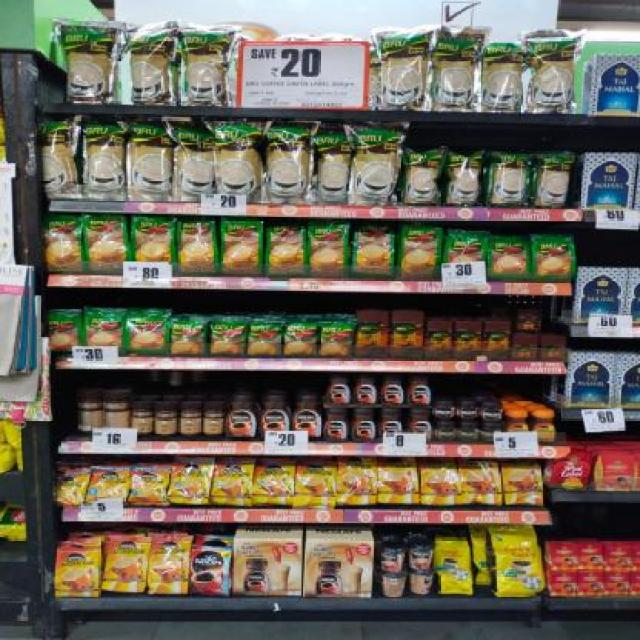Coffee: (106, 538, 149, 593), (56, 548, 99, 598), (149, 540, 188, 595), (191, 545, 232, 597), (418, 458, 462, 505), (377, 457, 420, 505), (460, 458, 503, 504), (502, 459, 544, 506), (296, 459, 336, 508), (254, 459, 294, 506), (214, 458, 252, 507), (338, 456, 376, 504), (172, 458, 210, 505), (90, 466, 128, 506), (260, 394, 292, 440), (226, 395, 259, 439), (130, 464, 167, 502), (292, 395, 322, 440), (54, 469, 86, 505), (379, 409, 406, 442), (408, 409, 434, 443), (324, 408, 350, 441), (352, 409, 377, 442), (326, 374, 351, 406), (505, 411, 529, 444), (353, 374, 379, 404), (532, 411, 556, 443), (380, 376, 405, 406), (407, 376, 431, 406), (479, 401, 504, 421), (456, 422, 481, 442), (433, 401, 458, 419), (435, 422, 457, 441), (481, 423, 502, 442), (456, 400, 478, 418)
